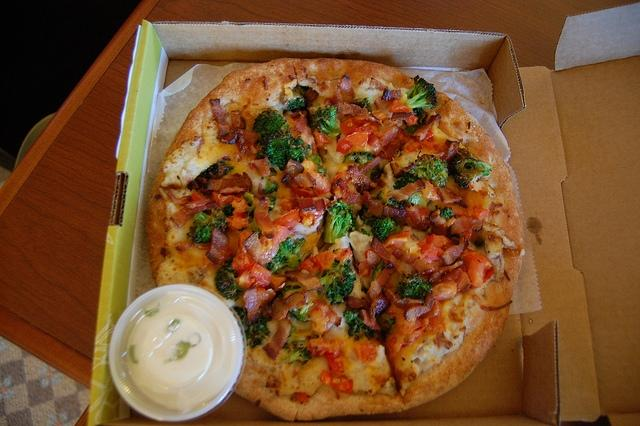broccoli: (256, 134, 310, 170), (317, 259, 357, 305), (450, 152, 492, 190), (325, 199, 358, 244), (265, 235, 305, 272), (398, 74, 438, 111), (407, 154, 449, 188), (187, 208, 226, 244), (253, 108, 289, 144), (394, 270, 433, 303), (309, 104, 342, 140), (366, 214, 401, 244), (198, 160, 235, 182), (215, 270, 242, 298), (288, 300, 314, 322), (287, 344, 313, 364), (343, 309, 362, 336), (393, 172, 421, 190), (342, 151, 376, 165), (238, 217, 262, 234), (282, 96, 306, 111), (244, 192, 257, 218), (233, 306, 249, 326), (365, 166, 384, 182), (353, 96, 372, 112), (262, 178, 278, 196), (250, 330, 264, 348), (440, 207, 456, 220), (222, 204, 235, 218), (384, 316, 397, 330), (405, 124, 420, 134)
